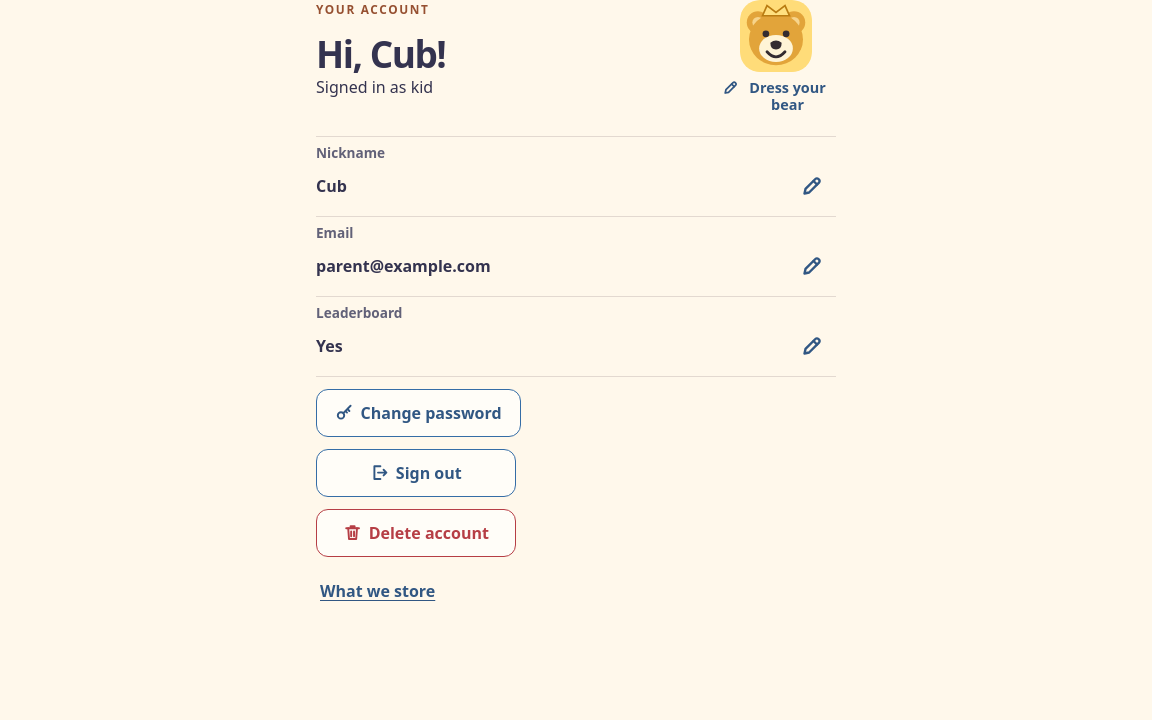
SCRUM-281 edit windows › a failed save keeps the window open with the message inside it
Click the button named "Change nickname". click: [812, 186]
box: [788,162,836,210]
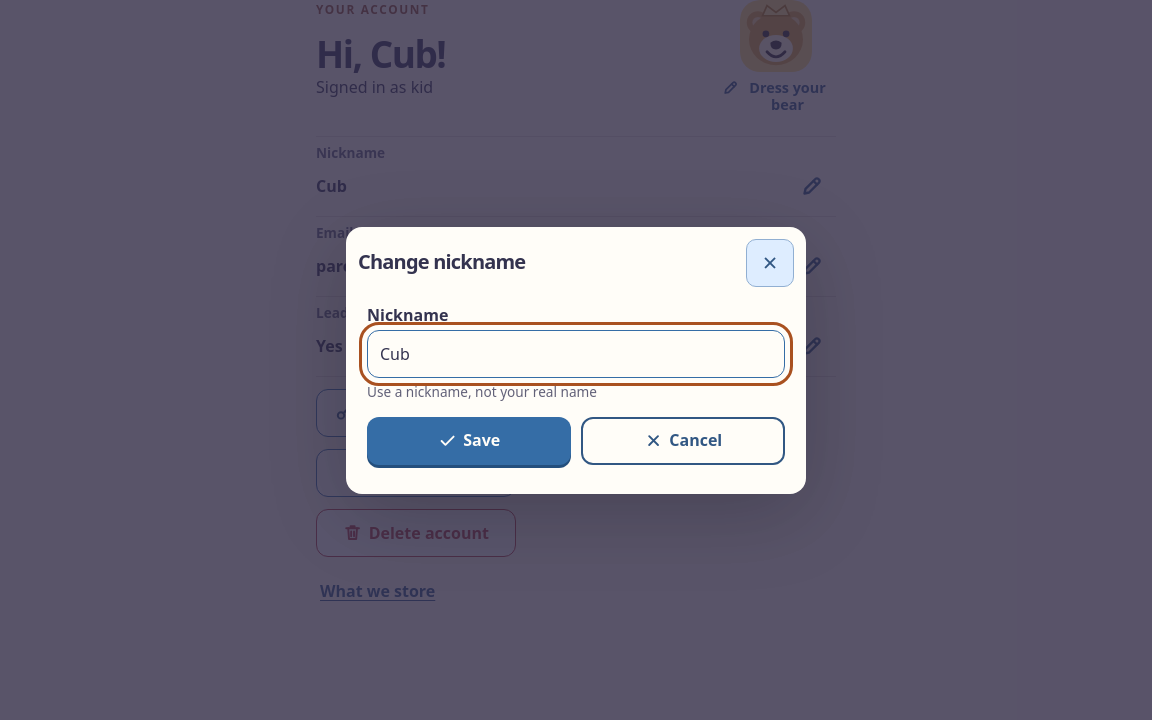
Click the button "Save". click: [469, 440]
box: [367,416,571,464]
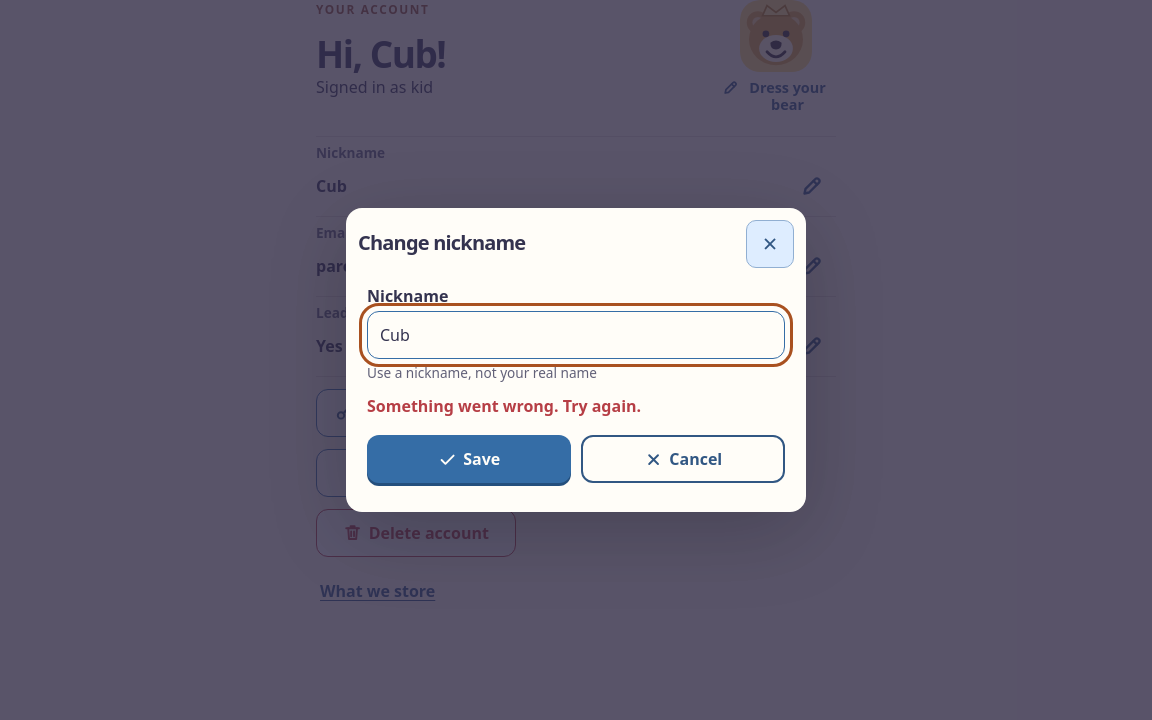
Now the message reads "Something went wrong. Try again.", box [367,395,641,417]
